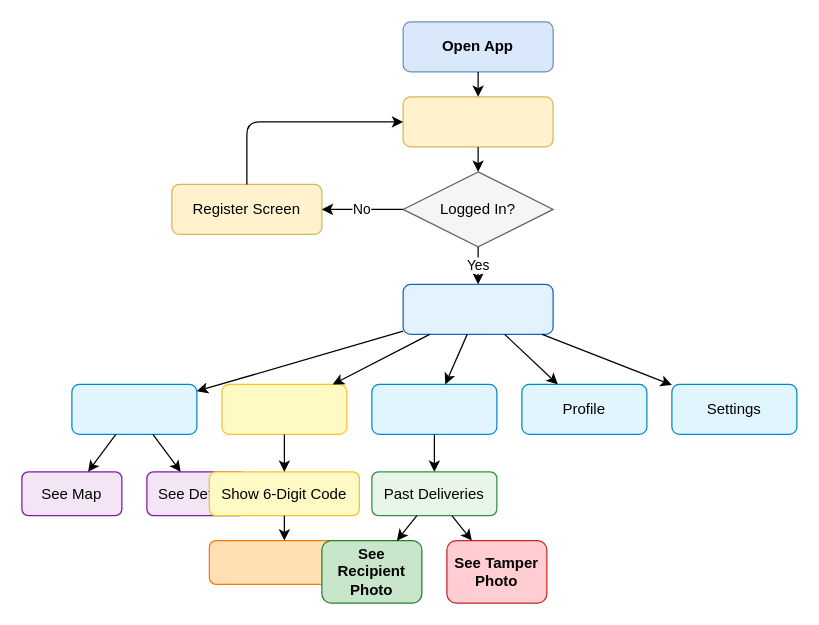
Some shapes in this 819 by 625 pixel diagram are drawn without their labels. The centre of each missing label's shape, as x and y in pixels:
"Customer Dashboard" goes at point (477, 308).
"Delivery History" goes at point (434, 408).
"Login Screen" goes at point (477, 121).
"Timer Counting" goes at point (283, 561).
"Track Order" goes at point (134, 408).
"View OTP" goes at point (284, 408).
